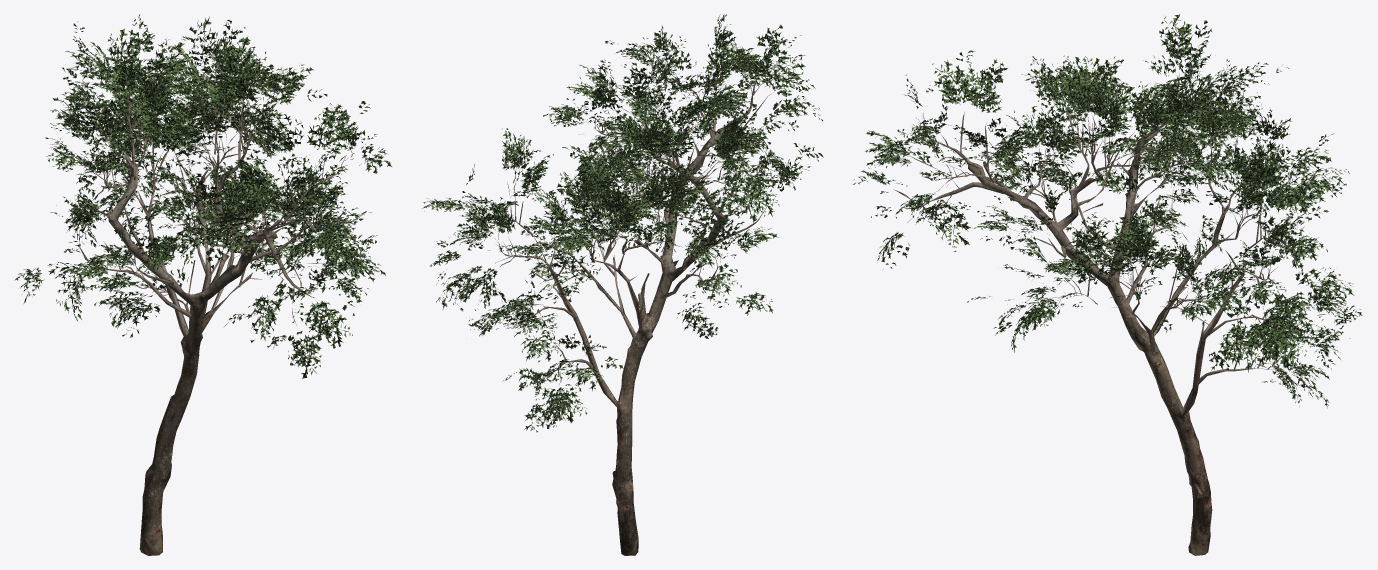
File: tree_small_02.glb
3 views of the same model, side by side, from view 1: azimuth 30°, elevation 25°; view 2: azimuth 150°, elevation 25°; view 3: azimuth 270°, elevation 25° (orthographic). The views are drawn at different scales.
Parts seen in each view (by area): view 1: tree_small_02_LOD0; view 2: tree_small_02_LOD0; view 3: tree_small_02_LOD0.
Boxes of the visible parts, <box> form: tree_small_02_LOD0: <box>14,14,391,555</box>; tree_small_02_LOD0: <box>421,14,823,555</box>; tree_small_02_LOD0: <box>853,14,1362,555</box>.
Size of the model in its own units: 2.91 by 4.55 by 4.22.
Materials: 3 (3 with a texture image).
